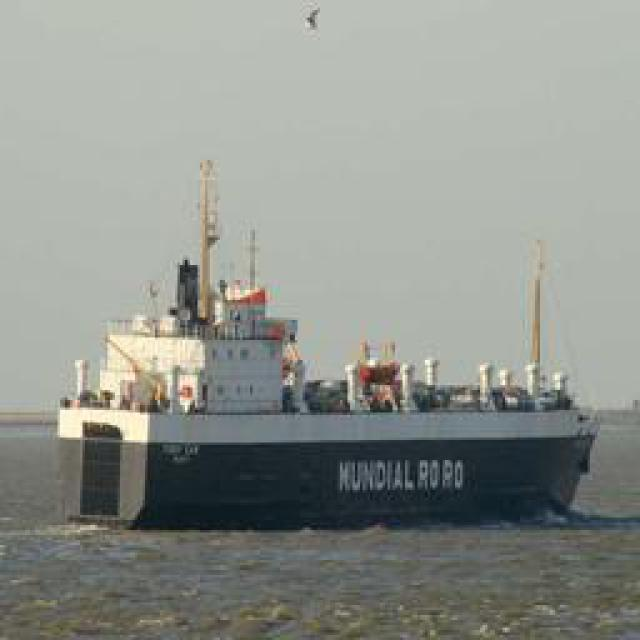Ship: (59, 230, 604, 525)
